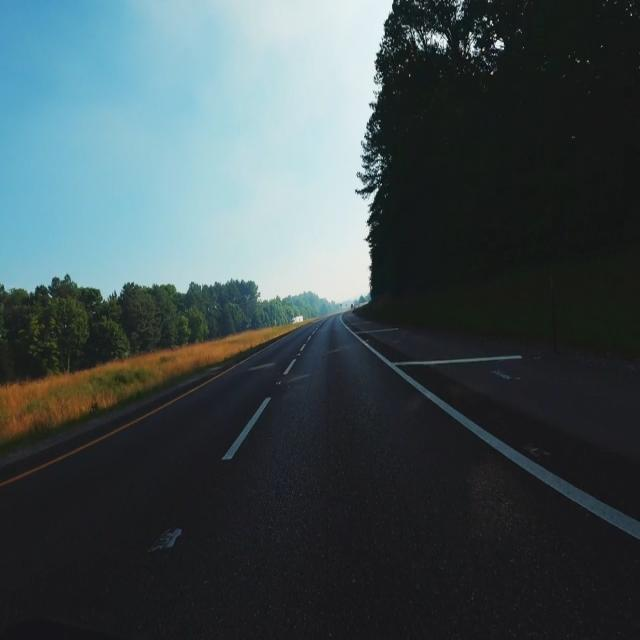asphalt: (0, 317, 640, 639), (414, 370, 640, 519)
grass: (0, 324, 298, 451)
